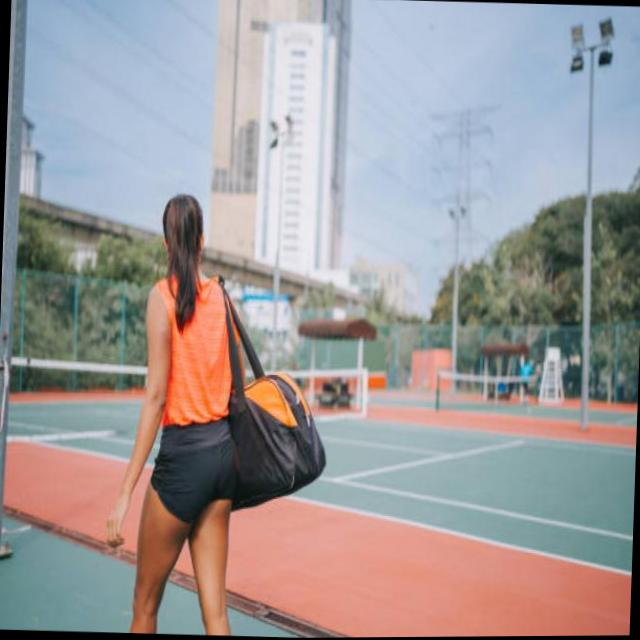no helmet: (157, 193, 210, 283)
